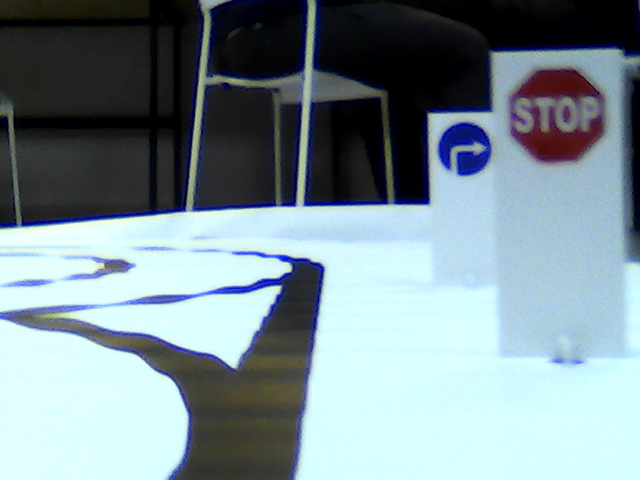Right: (436, 121, 489, 173)
Stop: (507, 59, 607, 169)
